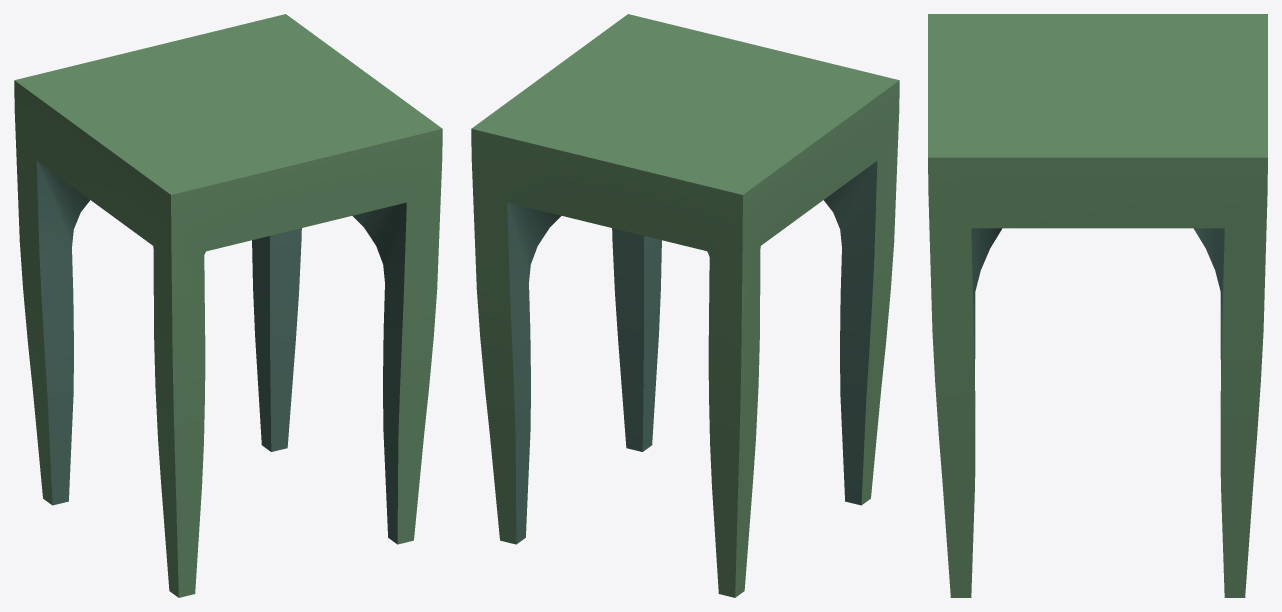
File: table.fbx
3 views of the same model, side by side, from view 1: azimuth 30°, elevation 25°; view 2: azimuth 150°, elevation 25°; view 3: azimuth 270°, elevation 25° (orthographic). The views are drawn at different scales.
Visible parts, largest first — view 1: Cube; view 2: Cube; view 3: Cube.
Part boxes in pixels (x1=…): Cube: x1=14, y1=14, x2=442, y2=597; Cube: x1=471, y1=14, x2=899, y2=597; Cube: x1=928, y1=14, x2=1267, y2=597.
Size of the model in its own units: 81 by 118 by 81.
